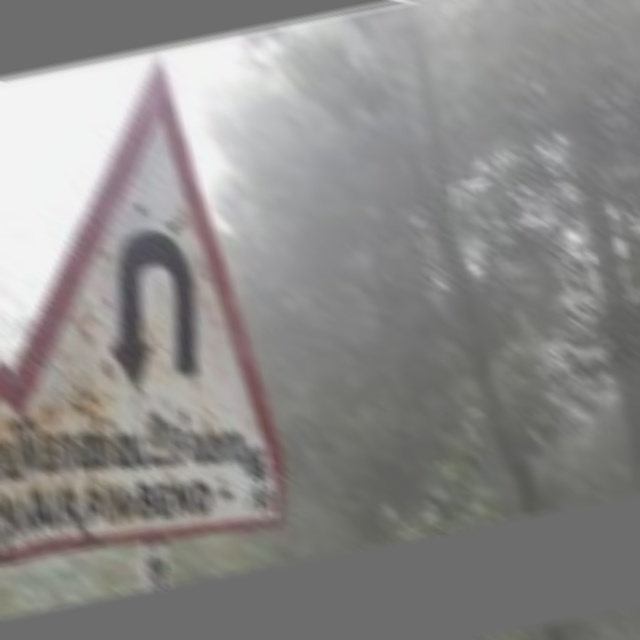Left_Hair_Pin_Bend: (60, 184, 232, 402)
